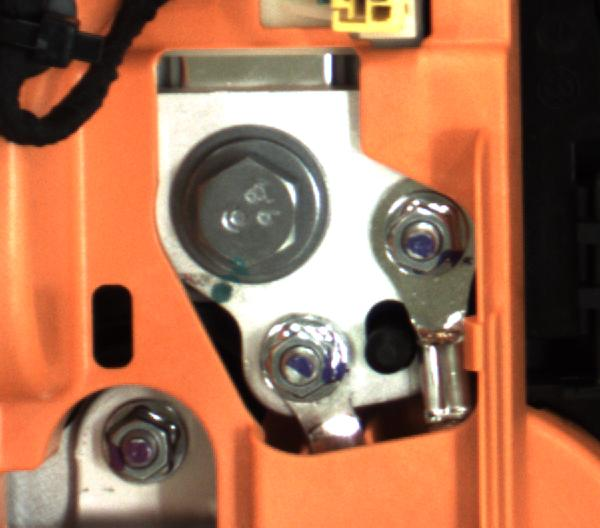nut_b: (158, 120, 315, 279)
screw_s: (247, 317, 359, 411), (100, 402, 195, 496), (377, 194, 470, 284)
